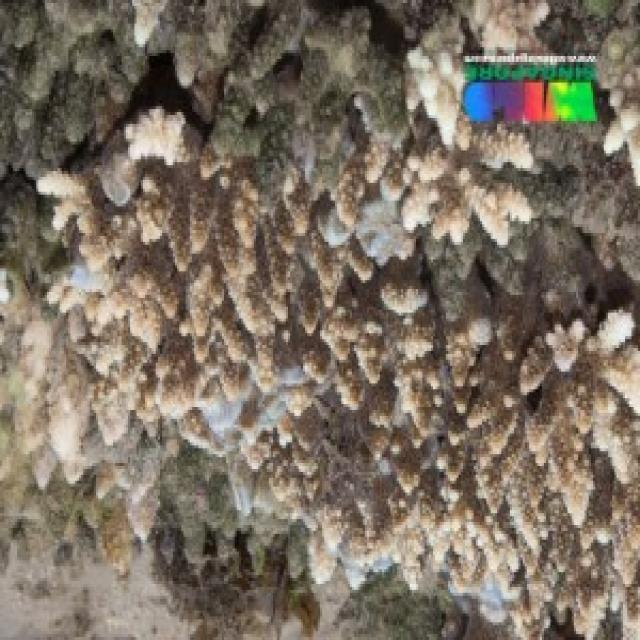Bleached: (2, 172, 640, 640)
Healthy: (203, 1, 403, 169), (1, 1, 113, 153)
